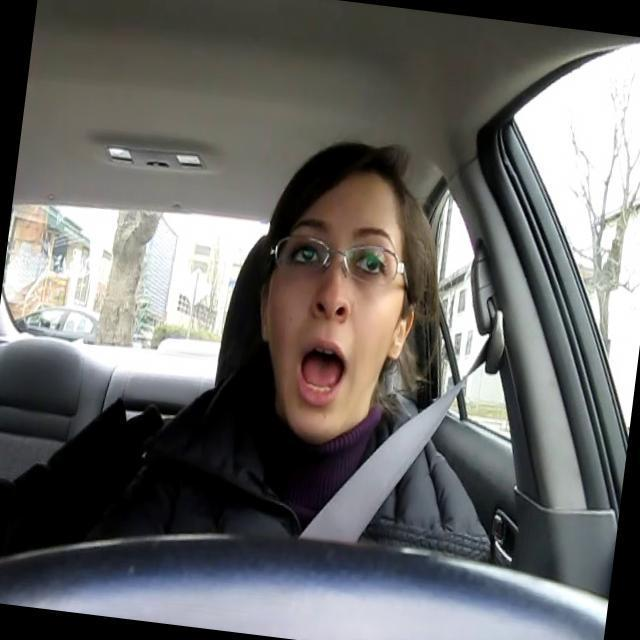open-mouth: (296, 340, 348, 404)
